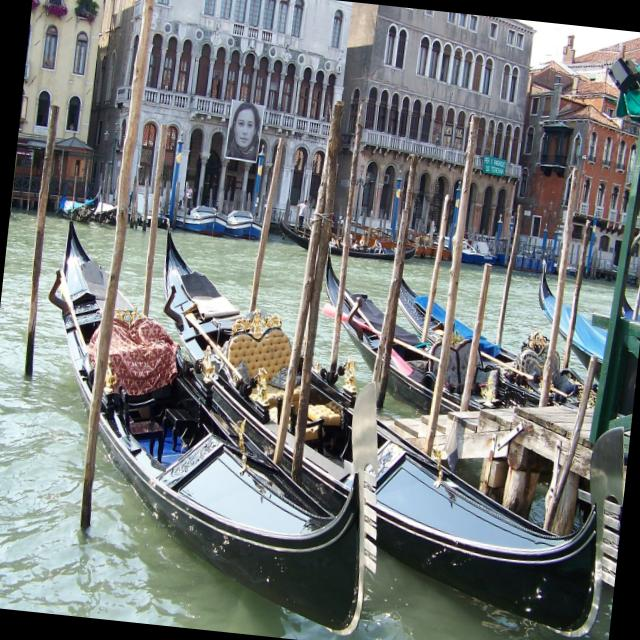boat: (115, 184, 640, 640), (12, 178, 423, 640)
